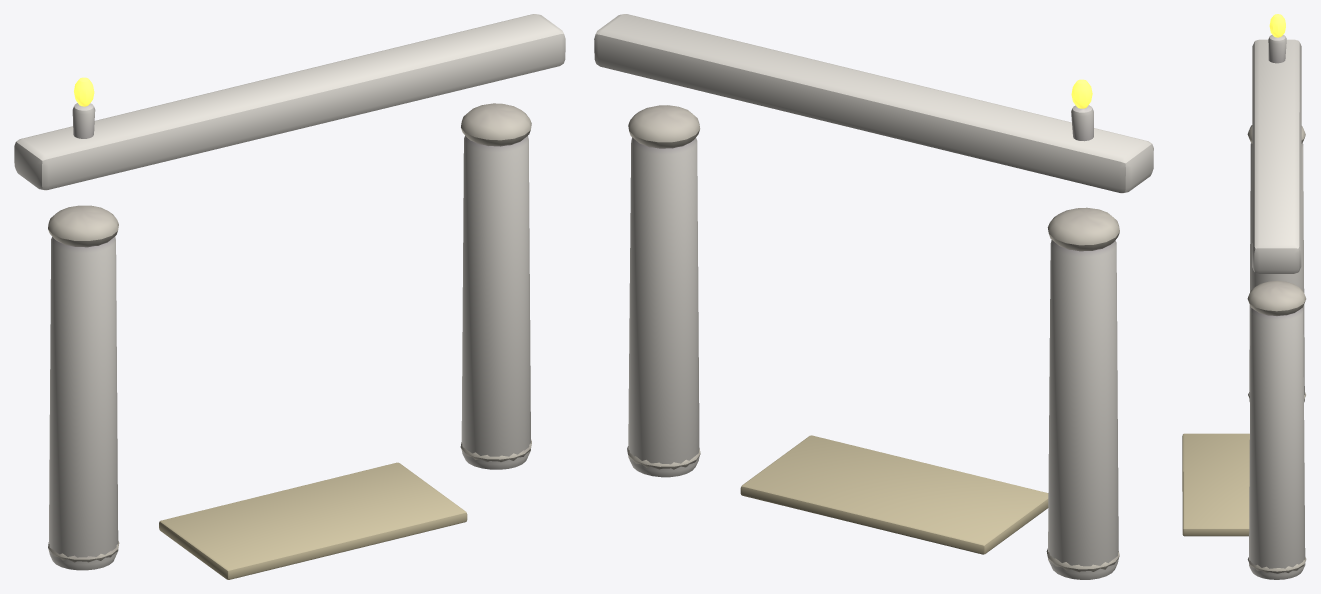
3 renders of one model, left to right at view 1: azimuth 30°, elevation 25°; view 2: azimuth 150°, elevation 25°; view 3: azimuth 270°, elevation 25°, orthographic. The views are drawn at different scales.
Visible parts, largest first — view 1: gate_6126cd91; view 2: gate_6126cd91; view 3: gate_6126cd91.
Boxes of the visible parts, x1=… form: gate_6126cd91: x1=14, y1=14, x2=565, y2=579; gate_6126cd91: x1=594, y1=14, x2=1153, y2=579; gate_6126cd91: x1=1182, y1=14, x2=1306, y2=579.
Size of the model in its own units: 5.27 by 4.6 by 1.31.
